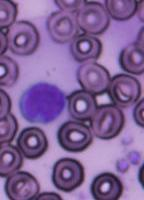L: (19, 80, 68, 125)
